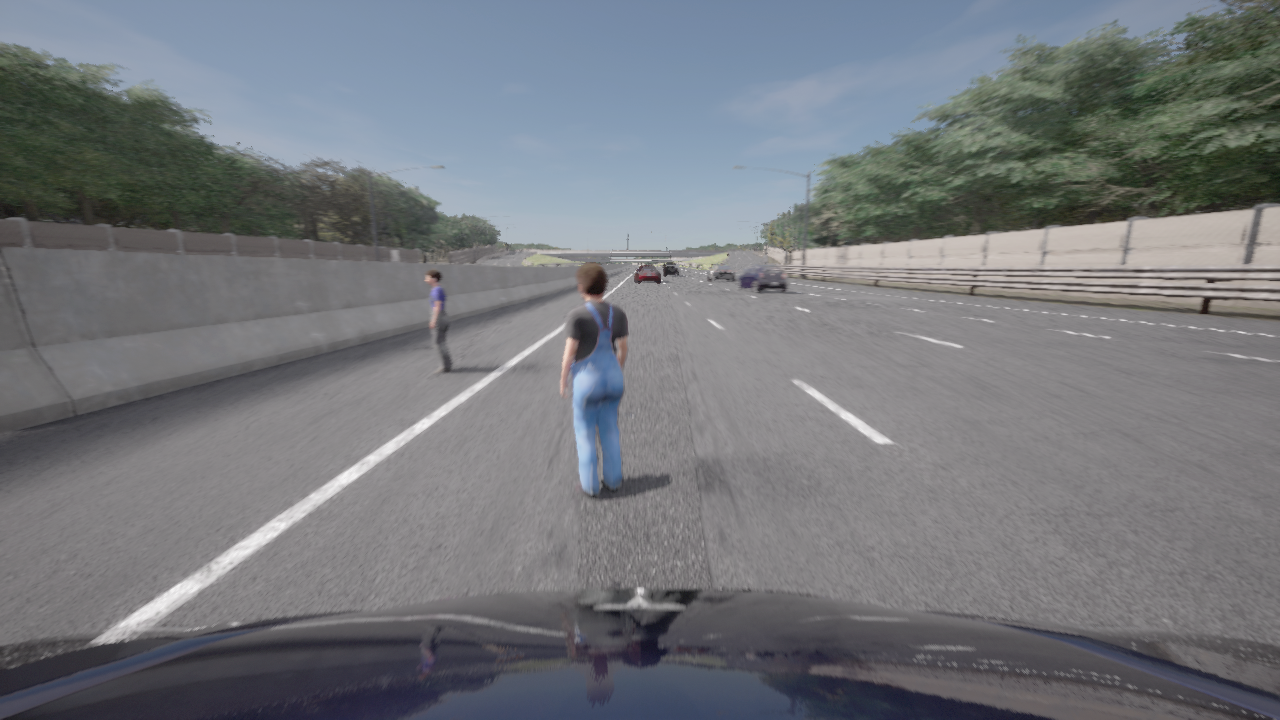cyclist: (0, 588, 1279, 719), (735, 265, 787, 293), (708, 264, 736, 281), (635, 266, 660, 282), (664, 263, 679, 275), (743, 264, 761, 271)
pedestrian: (560, 262, 627, 498), (425, 268, 453, 373)
